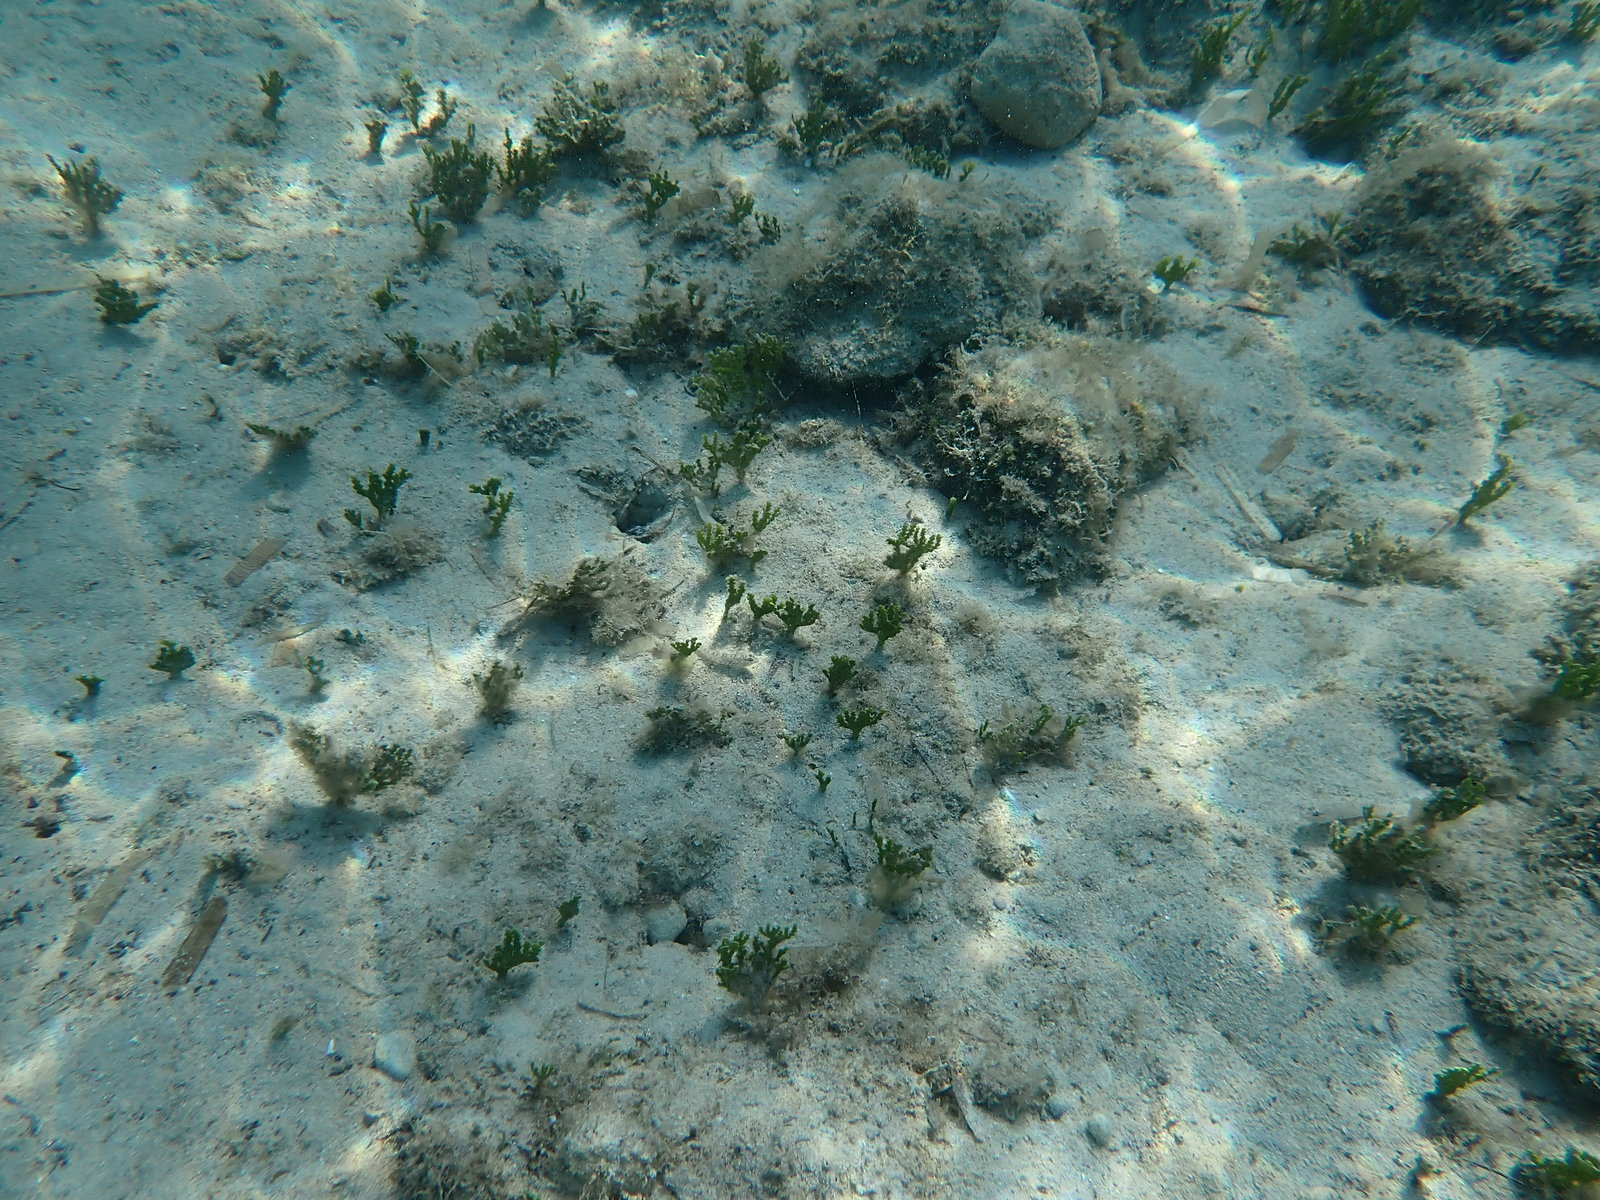halimeda: (1325, 809, 1443, 871), (717, 921, 797, 1006), (422, 135, 496, 211), (55, 154, 123, 233), (1463, 449, 1524, 534), (1531, 630, 1600, 702), (1335, 892, 1419, 947), (481, 921, 546, 988), (498, 125, 552, 195), (349, 463, 417, 514), (540, 112, 615, 159), (100, 274, 152, 332), (1196, 13, 1233, 84), (877, 833, 937, 875), (1436, 1058, 1502, 1095), (711, 342, 757, 395), (889, 519, 942, 565), (1436, 774, 1490, 818), (860, 604, 905, 653), (727, 430, 769, 478), (1272, 66, 1306, 124), (690, 366, 727, 417), (644, 168, 683, 216), (777, 596, 818, 642), (699, 429, 724, 498), (155, 638, 197, 679), (365, 279, 407, 319), (823, 652, 860, 695), (835, 707, 886, 737), (398, 72, 423, 132), (1151, 252, 1199, 284), (1249, 26, 1276, 81), (260, 71, 295, 108), (750, 326, 784, 366), (908, 151, 952, 178), (556, 891, 583, 933), (722, 572, 746, 620), (747, 591, 779, 626), (486, 489, 511, 532), (387, 332, 421, 363), (1504, 403, 1536, 437), (558, 279, 588, 313), (752, 212, 784, 243), (406, 202, 432, 237), (208, 852, 248, 875), (367, 118, 391, 155), (750, 500, 779, 529), (469, 476, 505, 499), (695, 524, 724, 552), (779, 730, 814, 753), (384, 746, 411, 774), (525, 289, 546, 324), (433, 88, 454, 124), (732, 194, 757, 222), (682, 458, 706, 487), (1063, 713, 1082, 745), (671, 639, 704, 657), (343, 507, 364, 529), (551, 330, 561, 376), (1038, 705, 1049, 737), (683, 284, 697, 308), (750, 550, 766, 570), (464, 120, 477, 142), (815, 770, 831, 789), (593, 79, 609, 100), (1233, 5, 1249, 25), (961, 161, 976, 182), (1294, 221, 1305, 245), (645, 262, 654, 290), (1328, 208, 1337, 234), (980, 718, 993, 736), (590, 95, 602, 112), (734, 527, 745, 539), (1340, 224, 1349, 237), (872, 797, 879, 807)
